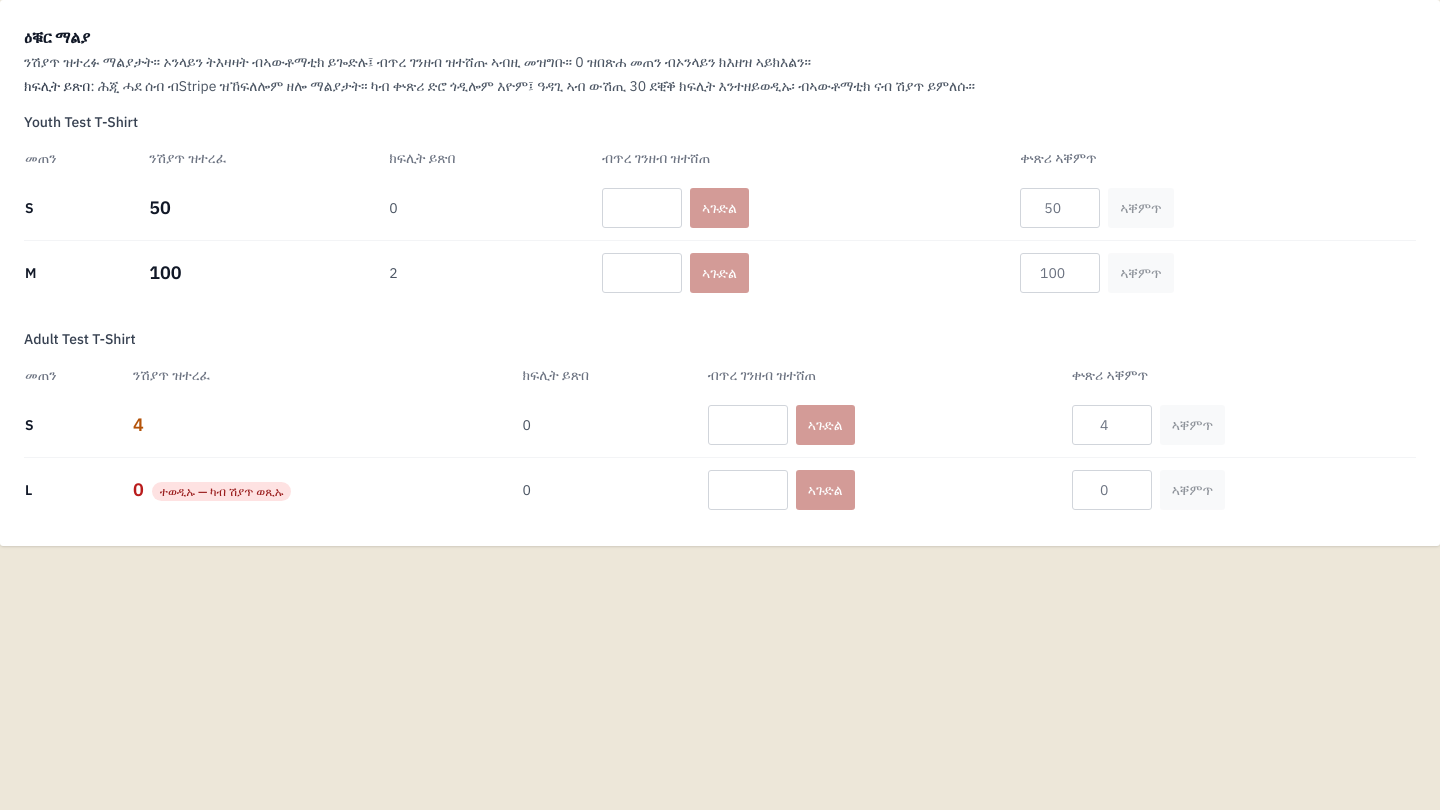
Test: MerchInventoryPanel in Tigrigna › explains a conflicting edit in Tigrigna
Type "6" into the number field named "ብጥረ ገንዘብ ዝተሸጡ ማልያታት፡ Youth Test T-Shirt መጠን M" at {"x": 642, "y": 273}, box top-left (602, 253), bottom-right (682, 293)
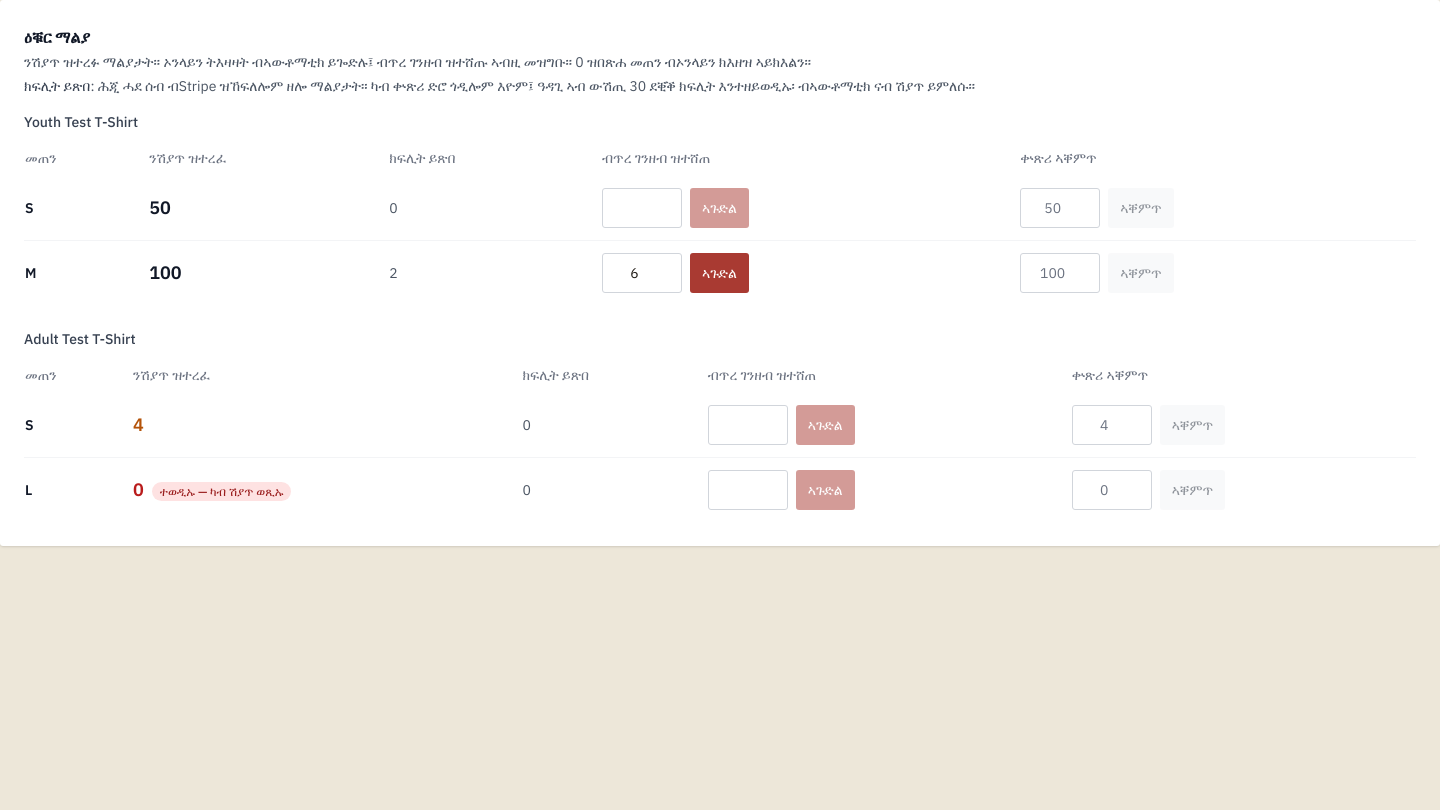
Click the button "ኣጉድል" in the row of "100" at {"x": 719, "y": 273}, box top-left (690, 253), bottom-right (749, 293)
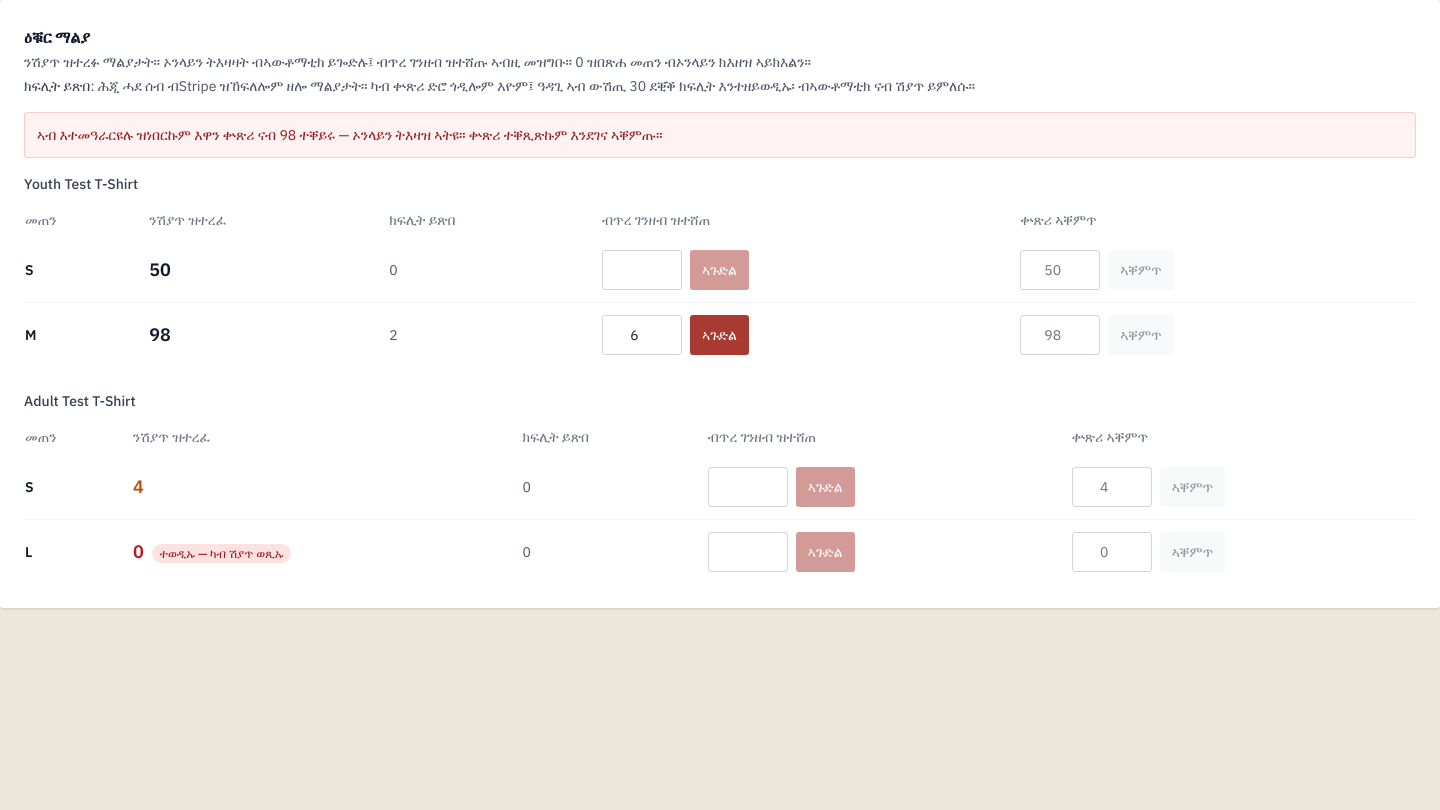
expect the message does not show "changed": met, box top-left (24, 112), bottom-right (1416, 158)
expect the message shows "98": met, box top-left (37, 126), bottom-right (662, 144)
